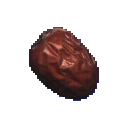gd: (17, 18, 117, 128)
